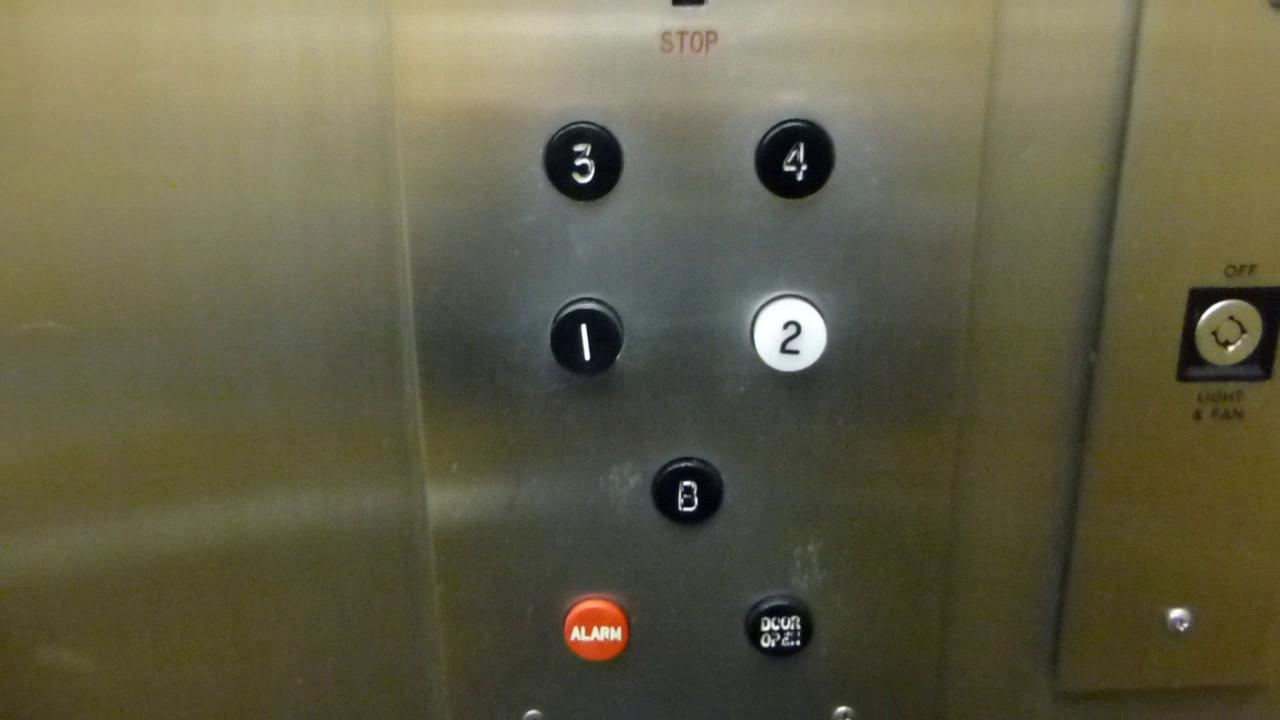1: (545, 290, 628, 383)
2: (744, 287, 832, 382)
3: (534, 113, 630, 207)
4: (746, 110, 842, 204)
B: (646, 451, 729, 533)
keyhole: (1176, 282, 1280, 391)
text_alarm: (556, 592, 636, 669)
text_door open: (738, 590, 818, 667)
